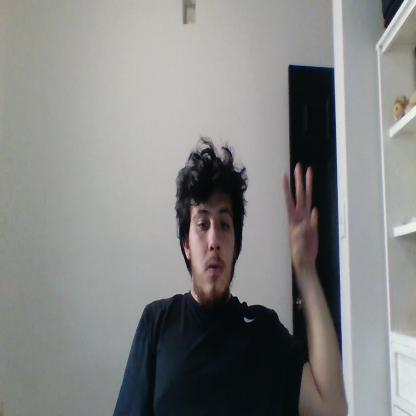W: (282, 163, 319, 267)
